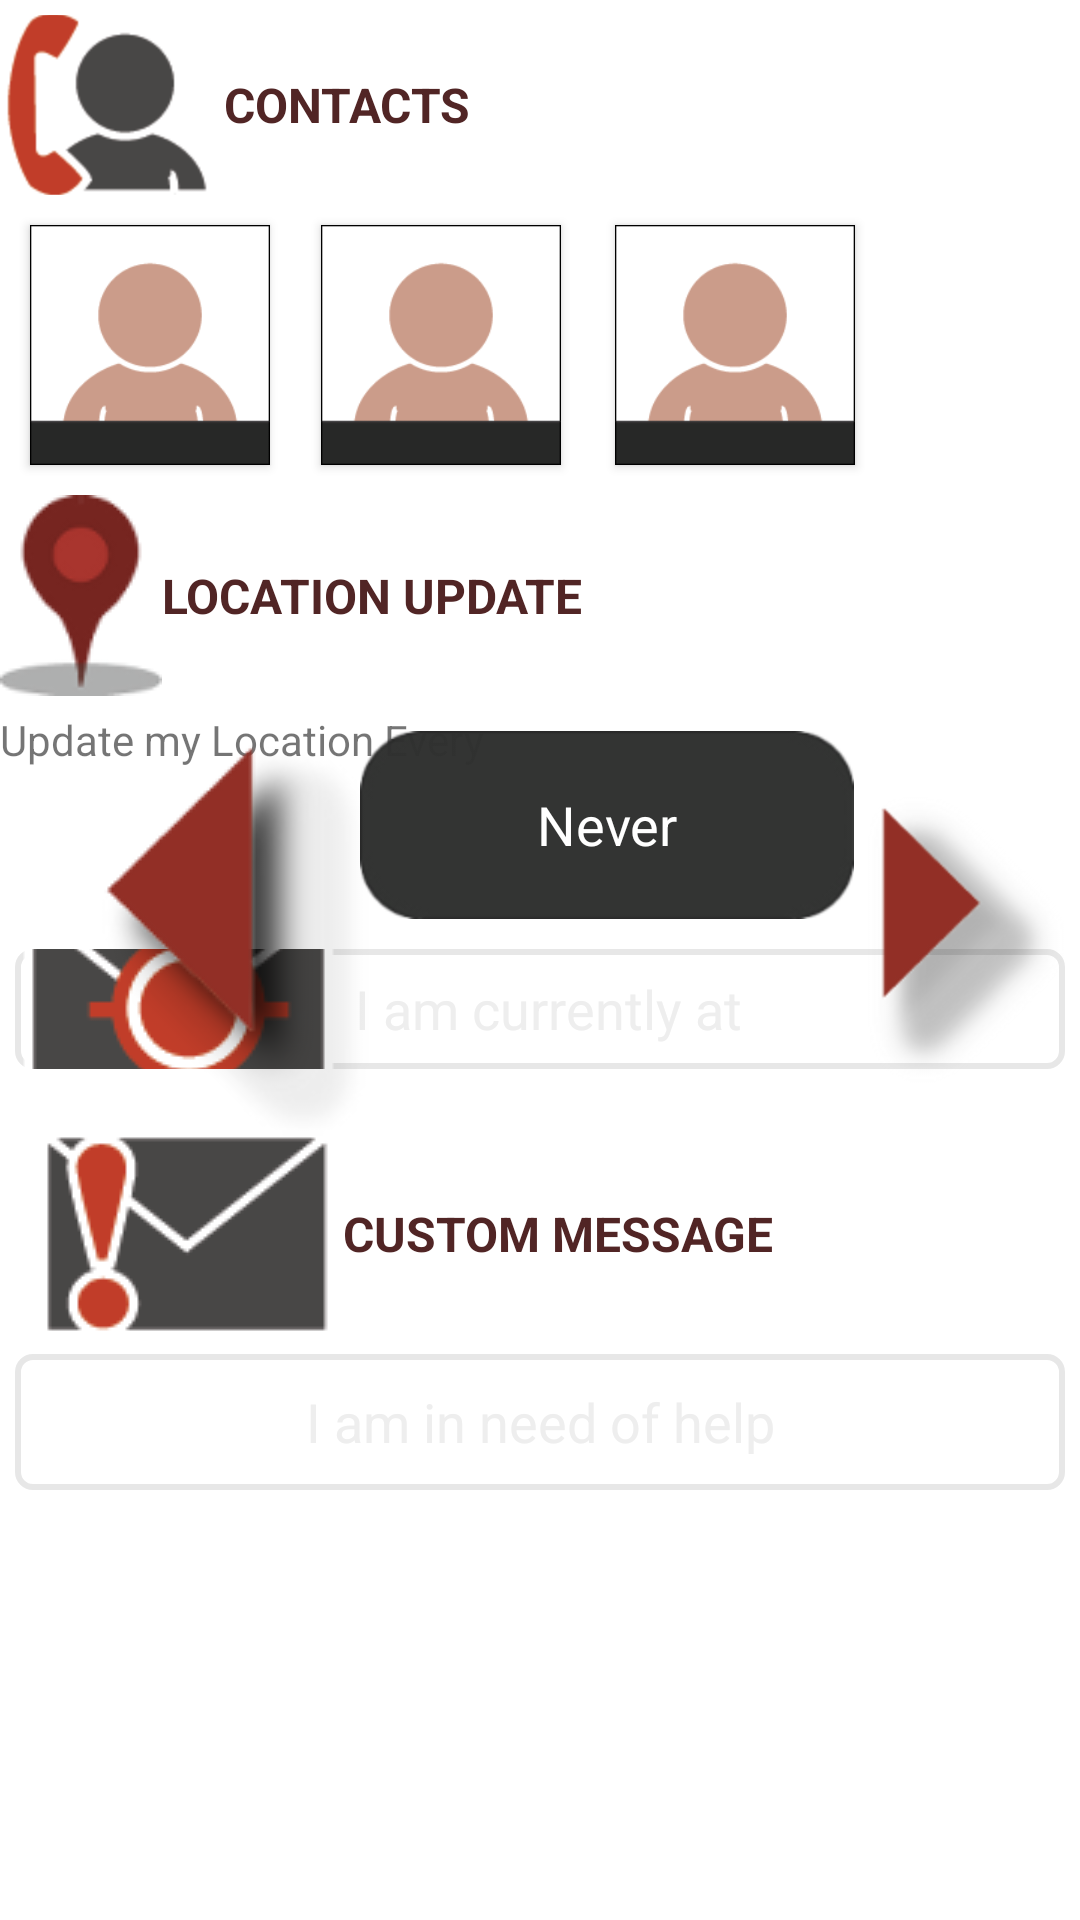

Point at icon controls on the screen. Image size 1080 x 1920, points as (x,y).
locationtabright: (965,938)
savedcontactbox: (150,345), (441,345), (735,345)
